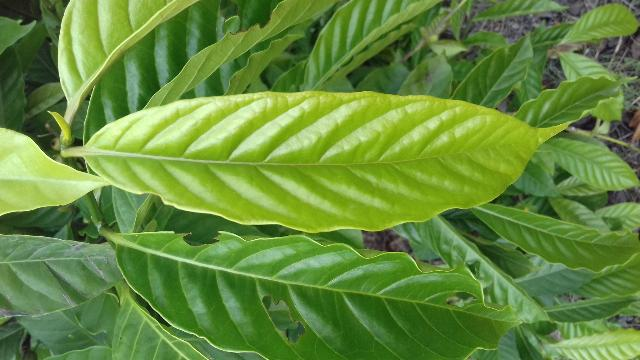healthy: (76, 90, 576, 230)
